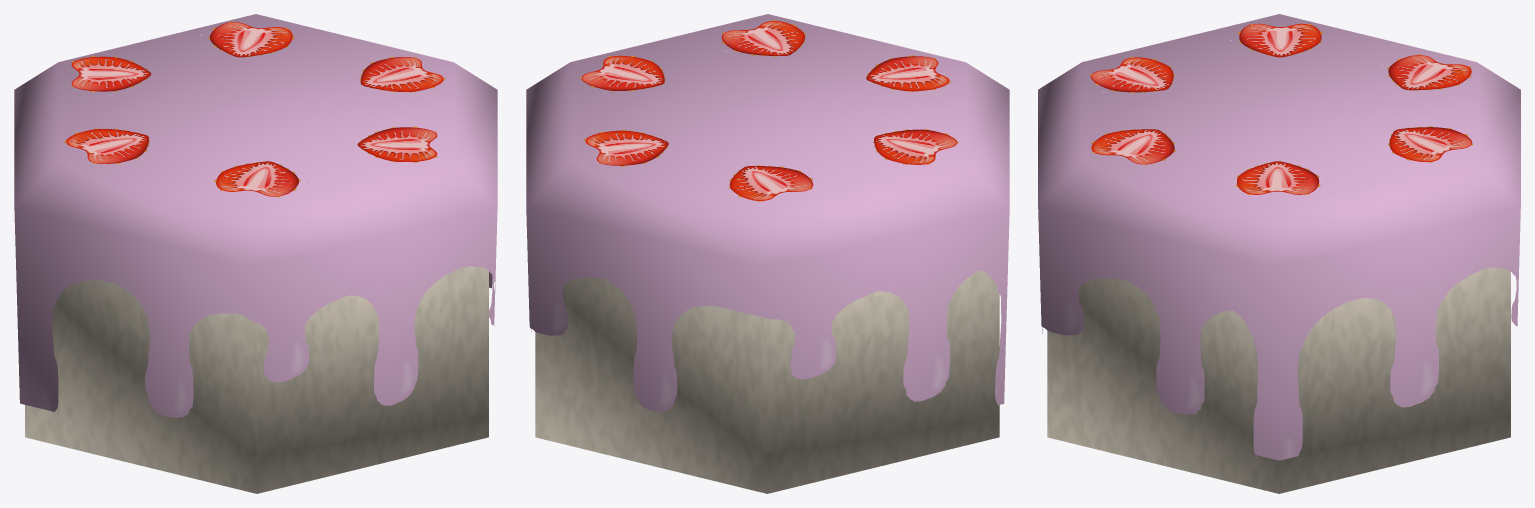
File: Cake_A.FBX
The picture shows the model from 3 angles, left to right: view 1: azimuth 30°, elevation 25°; view 2: azimuth 150°, elevation 25°; view 3: azimuth 270°, elevation 25°; orthographic projection.
Parts seen in each view (by area): view 1: Cake; view 2: Cake; view 3: Cake.
Boxes of the visible parts, left/top/right/bottom form: Cake: left=14, top=14, right=497, bottom=493; Cake: left=526, top=14, right=1009, bottom=493; Cake: left=1038, top=14, right=1520, bottom=493.
Size of the model in its own units: 106 by 56.96 by 92.14.
